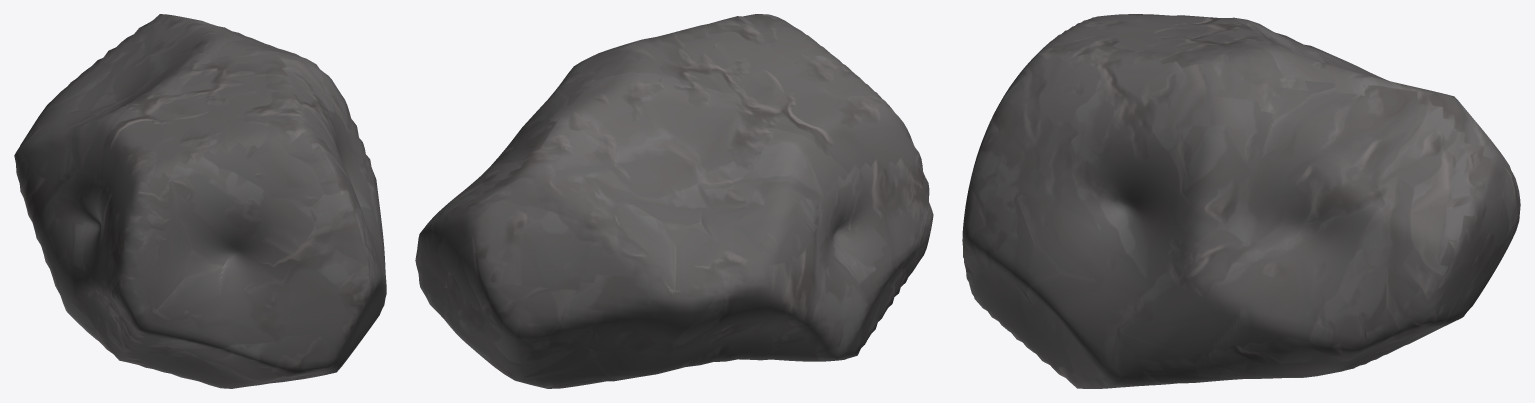
Rendered from rock2.fbx.
The picture shows the model from 3 angles, left to right: view 1: azimuth 30°, elevation 25°; view 2: azimuth 150°, elevation 25°; view 3: azimuth 270°, elevation 25°; orthographic projection. The views are drawn at different scales.
Parts seen in each view (by area): view 1: Cube; view 2: Cube; view 3: Cube.
Boxes of the visible parts, left/top/right/bottom form: Cube: left=14, top=14, right=386, bottom=388; Cube: left=415, top=14, right=933, bottom=388; Cube: left=962, top=14, right=1520, bottom=388.
Size of the model in its own units: 218 by 195 by 295.
